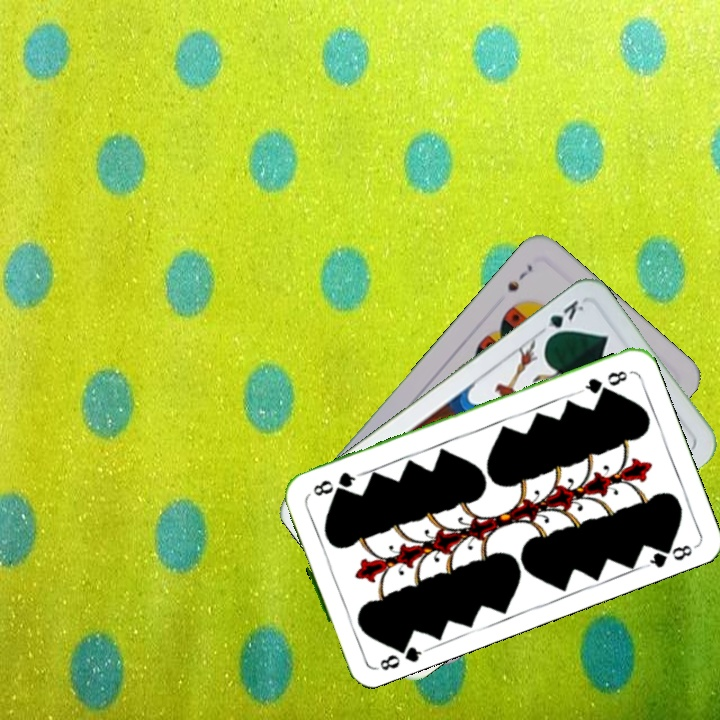G8: (370, 637, 427, 673), (576, 366, 630, 397)
GK: (535, 295, 587, 343)
S7: (503, 260, 536, 294)
